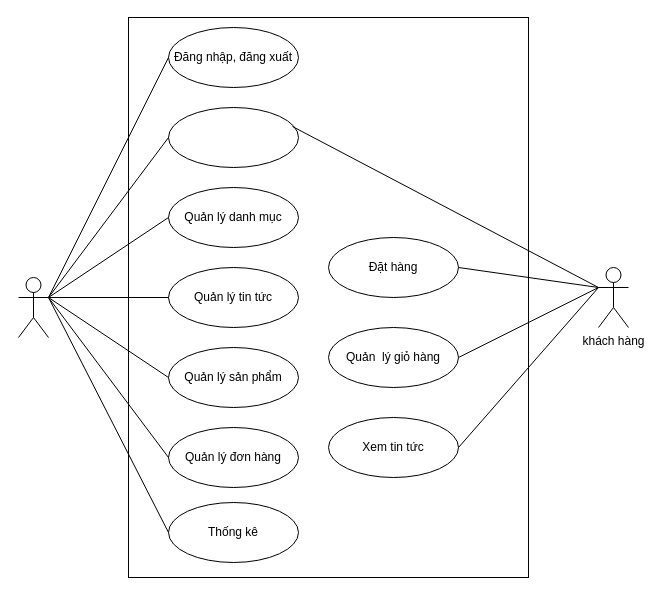
This 662x595 diagram has some shape labels left out. The shapes that lost their labels are listed below. From the top down, each one's box as (x1, y1, x2, y2) in pixels, then its label:
(168, 106, 298, 168): Tìm kiếm
(18, 276, 48, 338): admin
